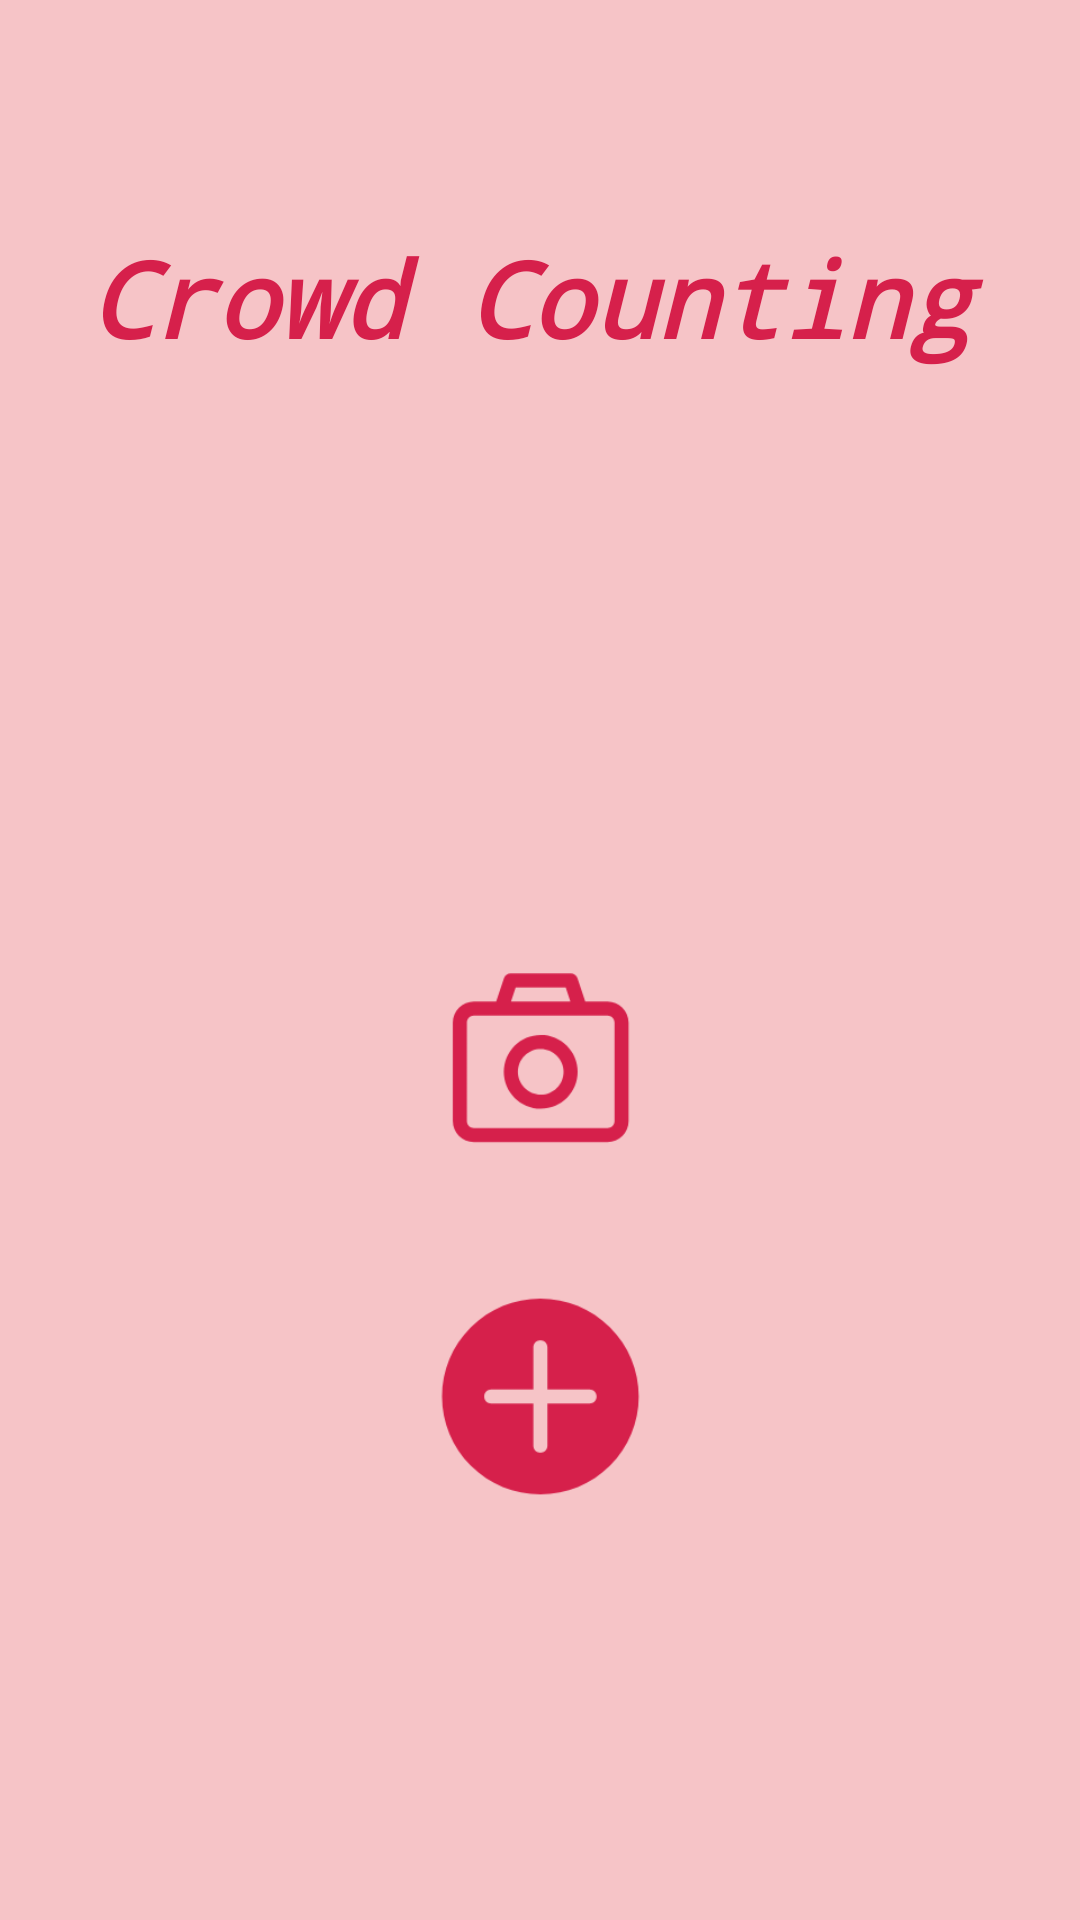

Named icons in this screenshot (1080*1920) and their bounding boxes, (x1, y1, x2, y2):
plus: (441, 1298, 640, 1495)
shoot: (452, 973, 629, 1143)
